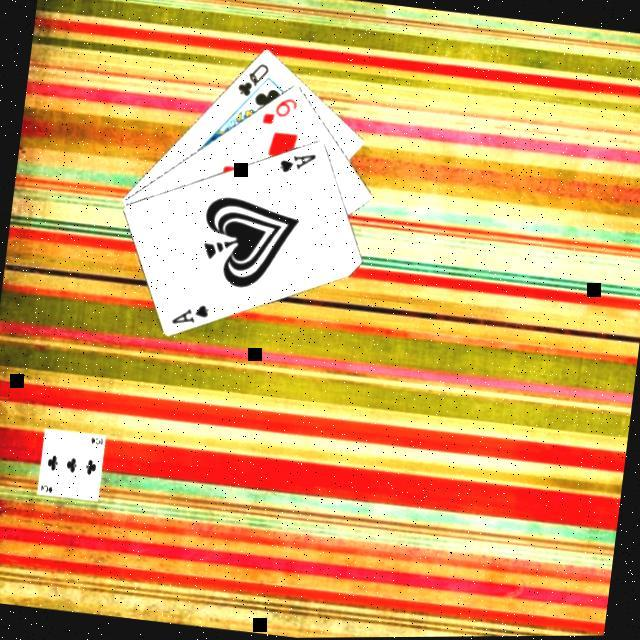6D: (258, 93, 300, 131)
AS: (166, 297, 212, 331), (274, 147, 318, 180)
QC: (231, 57, 272, 102)
